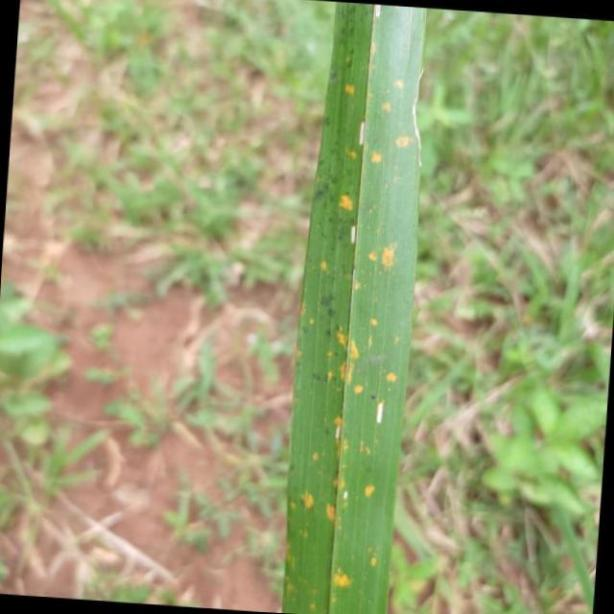Kalium: (286, 0, 432, 614)
